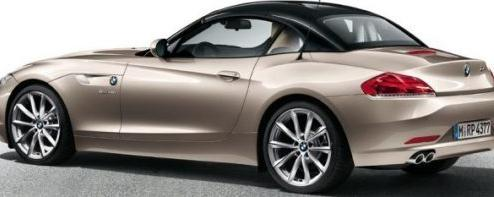back_view: (353, 54, 494, 166)
backlight: (358, 70, 439, 102)
side_glass: (150, 11, 308, 60)
